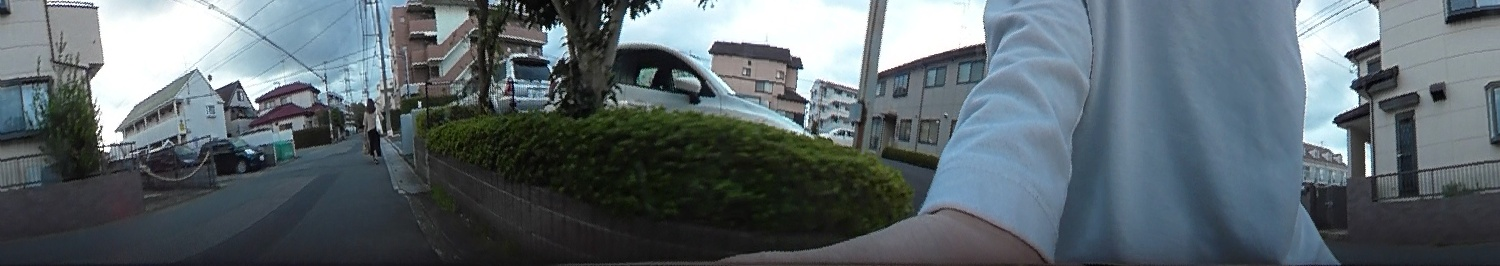person: (359, 96, 387, 161)
